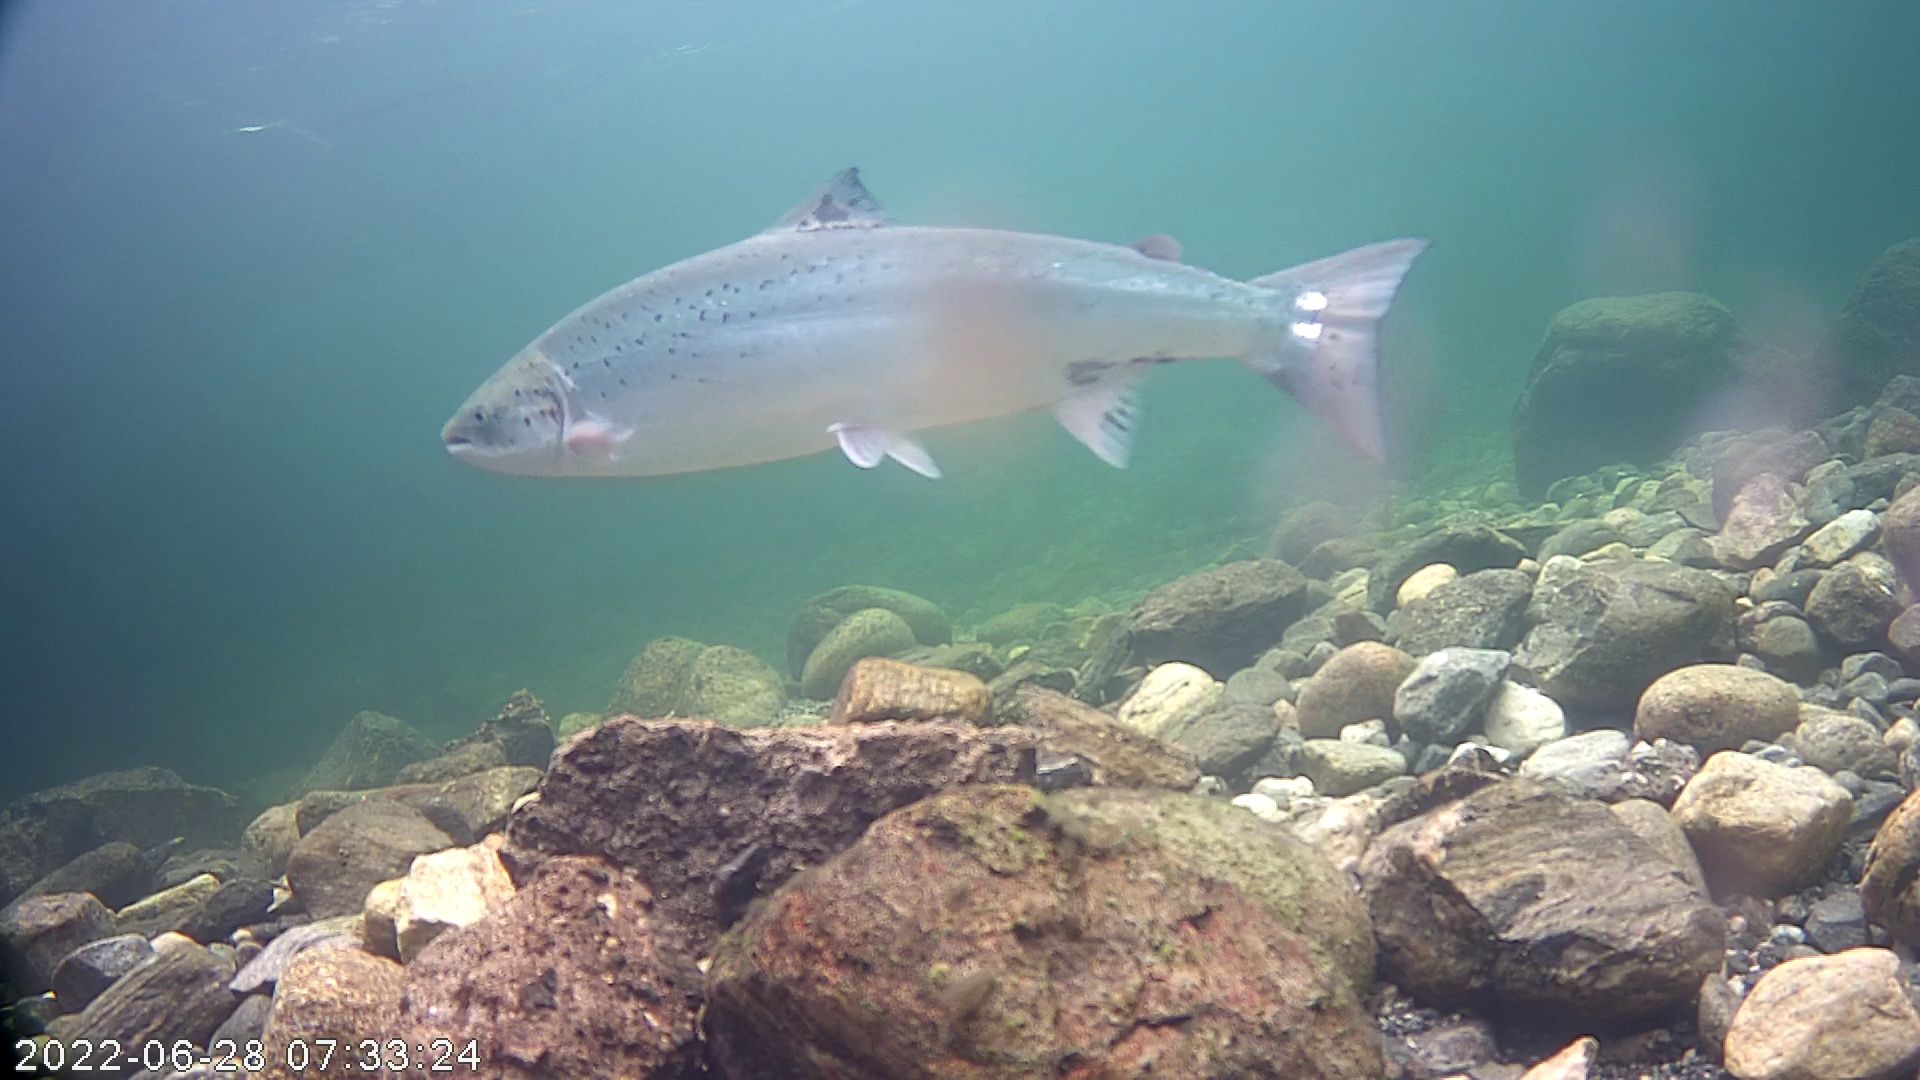salmon: (434, 109, 1451, 527)
